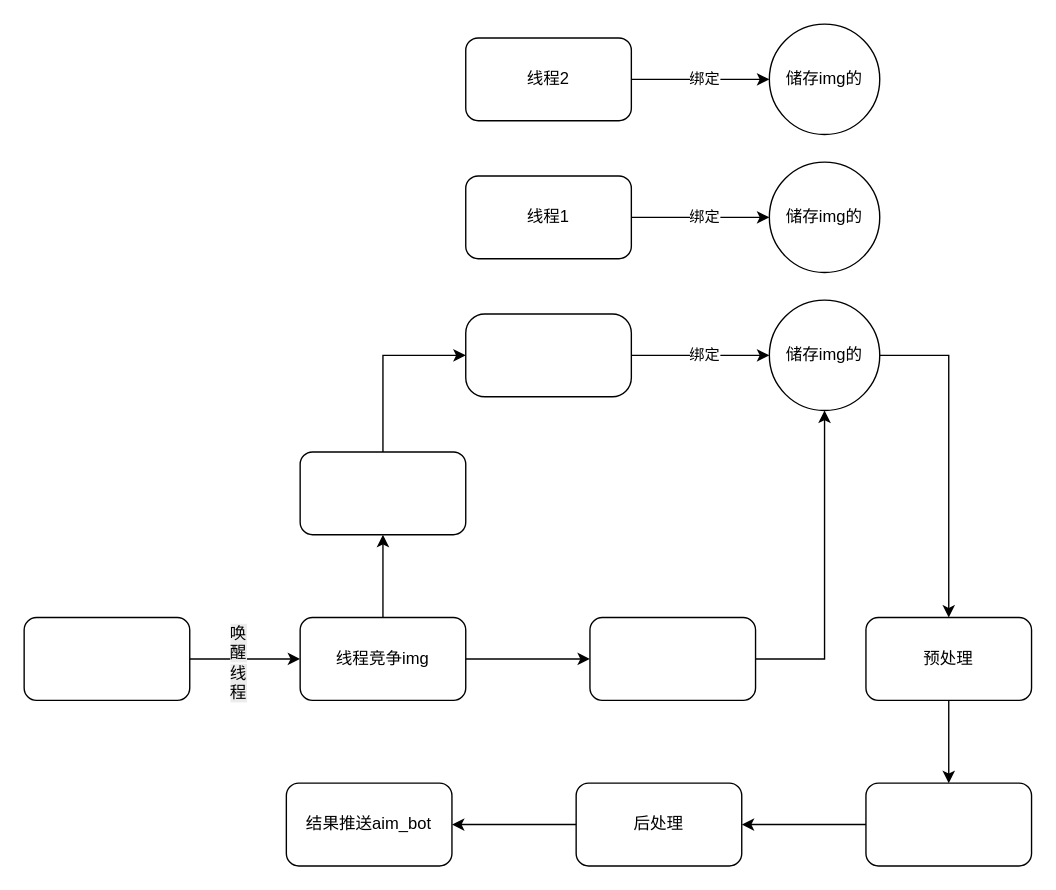
Some shapes in this 1056 by 890 pixel diagram are drawn without their labels. Each missing label, with the centre of its shape:
"v4l2采集1920x1080,BGR3" goes at point 106,658.
"复制模型大小img" goes at point 672,658.
"推理" goes at point 948,824.
"线程0" goes at point 547,355.
"线程变量+原子变量" goes at point 382,493.
